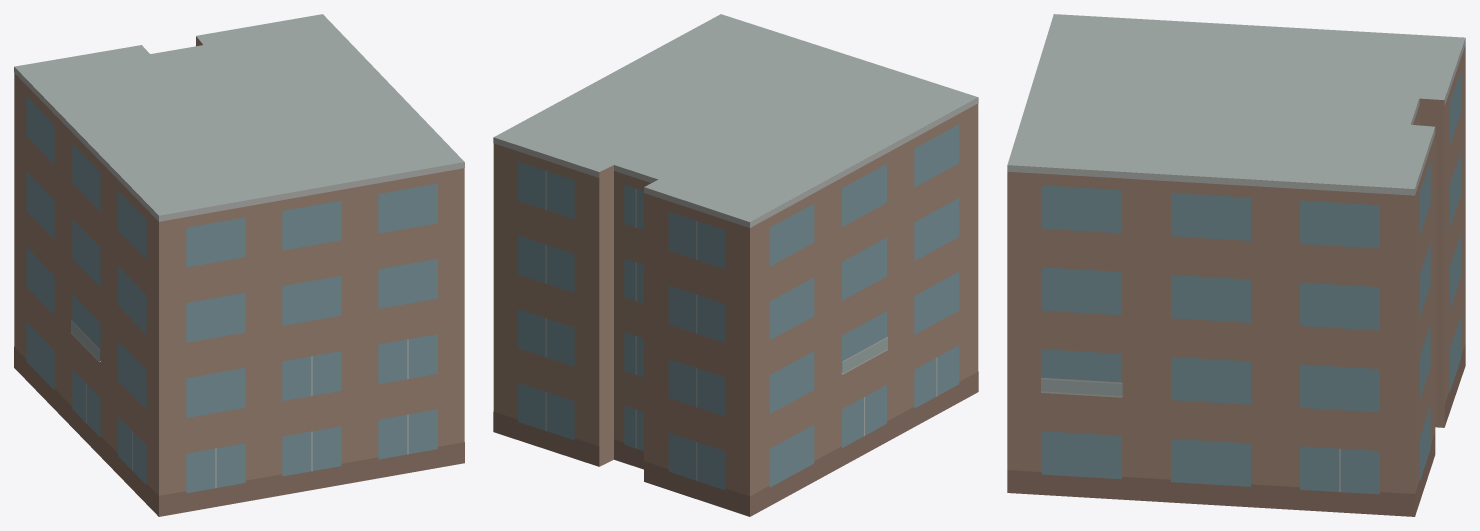
Rendered from survey-upis-32894266.glb.
The picture shows the model from 3 angles, left to right: view 1: azimuth 30°, elevation 25°; view 2: azimuth 150°, elevation 25°; view 3: azimuth 270°, elevation 25°; orthographic projection. The views are drawn at different scales.
Visible parts, largest first — view 1: survey-upis-32894266.tmp; view 2: survey-upis-32894266.tmp; view 3: survey-upis-32894266.tmp.
Boxes of the visible parts, x1=… form: survey-upis-32894266.tmp: x1=14, y1=14, x2=464, y2=516; survey-upis-32894266.tmp: x1=493, y1=14, x2=978, y2=516; survey-upis-32894266.tmp: x1=1007, y1=14, x2=1465, y2=516.
Bounding box in the file's own units: 13.99 × 12.2 × 15.47.
